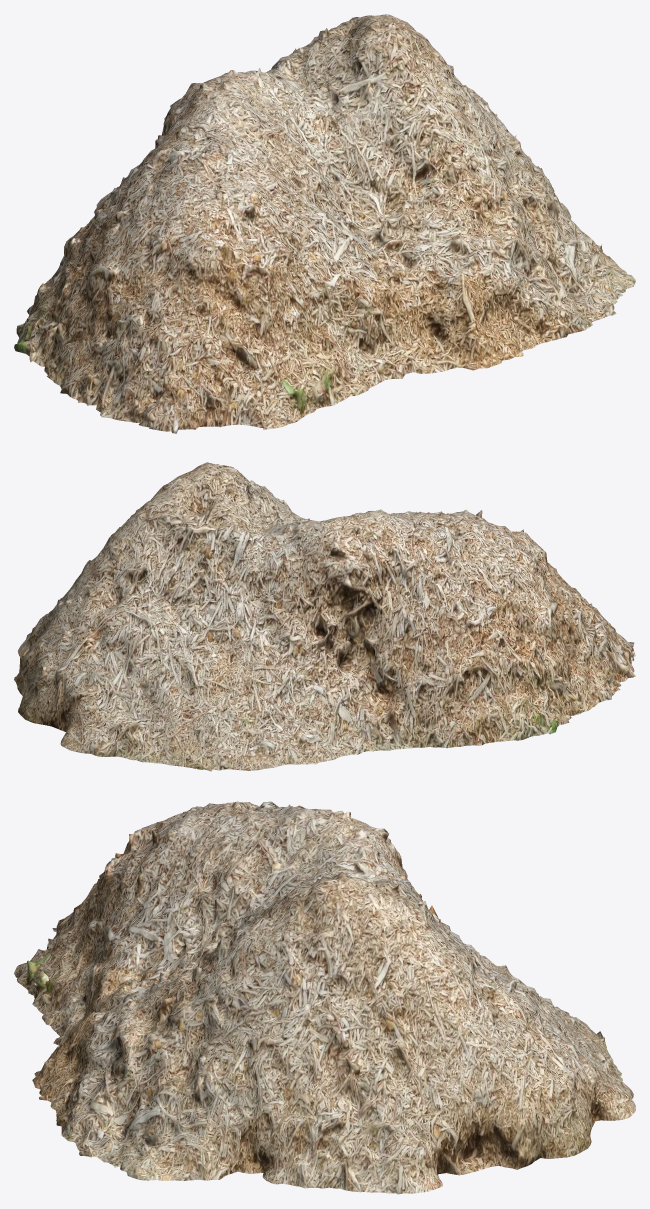
Rendered from wood-chip-pile.glb.
3 renders of one model, top to bottom at view 1: azimuth 30°, elevation 25°; view 2: azimuth 150°, elevation 25°; view 3: azimuth 270°, elevation 25°, orthographic. The views are drawn at different scales.
Visible parts, largest first — view 1: N000_Chips pile_LP_0; view 2: N000_Chips pile_LP_0; view 3: N000_Chips pile_LP_0.
Part boxes in pixels (left/top/right/bottom): N000_Chips pile_LP_0: left=14, top=14, right=635, bottom=433; N000_Chips pile_LP_0: left=14, top=462, right=635, bottom=771; N000_Chips pile_LP_0: left=14, top=800, right=635, bottom=1194.
Bounding box in the file's own units: 3.25 × 1.21 × 2.99.
Materials: 1 (1 with a texture image).
